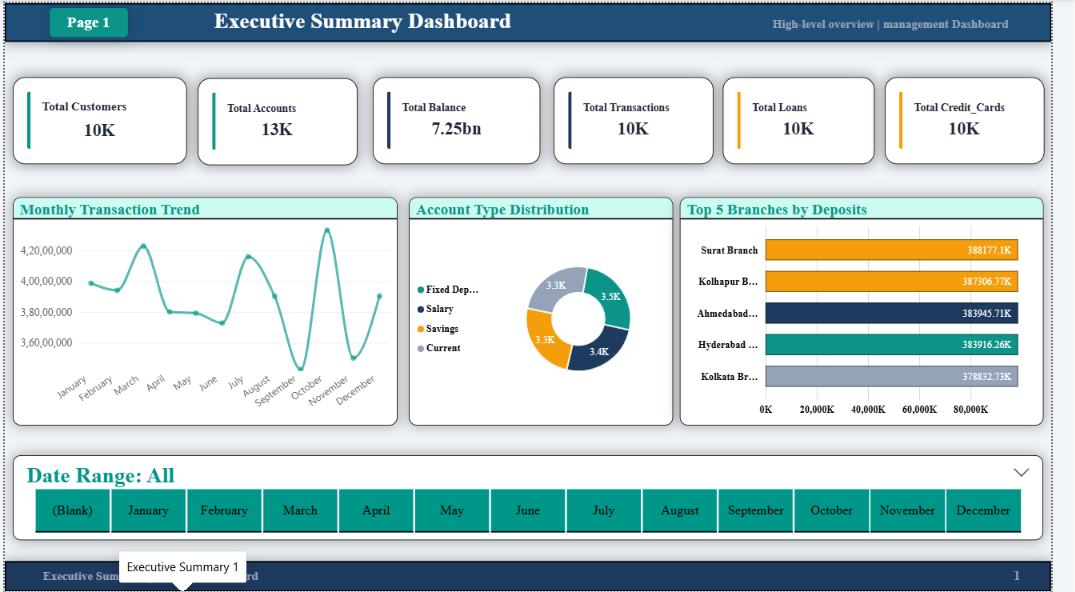

This screenshot's page, from the dashboard's own definition file:
{"tool":"powerbi","page":{"name":"Executive Summary 1","canvas":[1280,720],"ordinal":0},"visuals":[{"type":"cardVisual","fields":{"Data":["accounts.Total Accounts"]},"box":[235.9,92.3,194.9,106.4],"z":0},{"type":"cardVisual","fields":{"Data":["accounts.Total Balance"]},"box":[450,91,205.1,106.4],"z":1000},{"type":"cardVisual","fields":{"Data":["loan.Total Loans"]},"box":[878.2,91,185.9,106.4],"z":2000},{"type":"cardVisual","fields":{"Data":["transactions.Total Transactions"]},"box":[671.8,91,194.9,106.4],"z":3000},{"type":"cardVisual","fields":{"Data":["credit_cards.Total Cards"]},"box":[1075.6,91,194.9,106.4],"z":4000},{"type":"cardVisual","fields":{"Data":["customers.Total Customers"]},"box":[10.3,91,212.8,106.4],"z":5000},{"type":"donutChart","title":"Account Type Distribution","fields":{"Category":["accounts.Account_Type"],"Y":["CountNonNull(accounts.Account_ID)"]},"box":[493.6,237.2,323.1,279.5],"z":6000},{"type":"clusteredBarChart","title":"Top 5 Branches by Deposits","fields":{"Category":["branchs.Branch_Name"],"Y":["branchs.Branch Deposits"]},"box":[825.6,237.2,444.9,279.5],"z":7000},{"type":"slicer","title":"Date Range","fields":{"Values":["Calendar.Month"]},"box":[10.3,552.6,1260.3,103.8],"z":8000},{"type":"textbox","box":[0,0,1280.3,47],"z":9000},{"type":"textbox","box":[53.8,4.9,97.8,37.9],"z":10000},{"type":"lineChart","title":"Monthly Transaction Trend","fields":{"Category":["Calendar.Month"],"Y":["transactions.Total Txn Amount"]},"box":[10.3,237.2,470.5,279.5],"z":11000},{"type":"textbox","box":[0,682.1,1279.5,38.5],"z":12000}]}

Visuals, with their boxes on the page's 1280x720 design canvas (x1, y1, x2, y2). These are canvas units, not pixel positions in the 1075x592 screenshot, which may show the page scaled, cropped or inside an application window:
cardVisual - accounts.Total Accounts: select_region(236, 92, 431, 199)
cardVisual - accounts.Total Balance: select_region(450, 91, 655, 197)
cardVisual - loan.Total Loans: select_region(878, 91, 1064, 197)
cardVisual - transactions.Total Transactions: select_region(672, 91, 867, 197)
cardVisual - credit_cards.Total Cards: select_region(1076, 91, 1270, 197)
cardVisual - customers.Total Customers: select_region(10, 91, 223, 197)
"Account Type Distribution" donutChart: select_region(494, 237, 817, 517)
"Top 5 Branches by Deposits" clusteredBarChart: select_region(826, 237, 1270, 517)
"Date Range" slicer: select_region(10, 553, 1271, 656)
textbox: select_region(0, 0, 1280, 47)
textbox: select_region(54, 5, 152, 43)
"Monthly Transaction Trend" lineChart: select_region(10, 237, 481, 517)
textbox: select_region(0, 682, 1280, 721)
